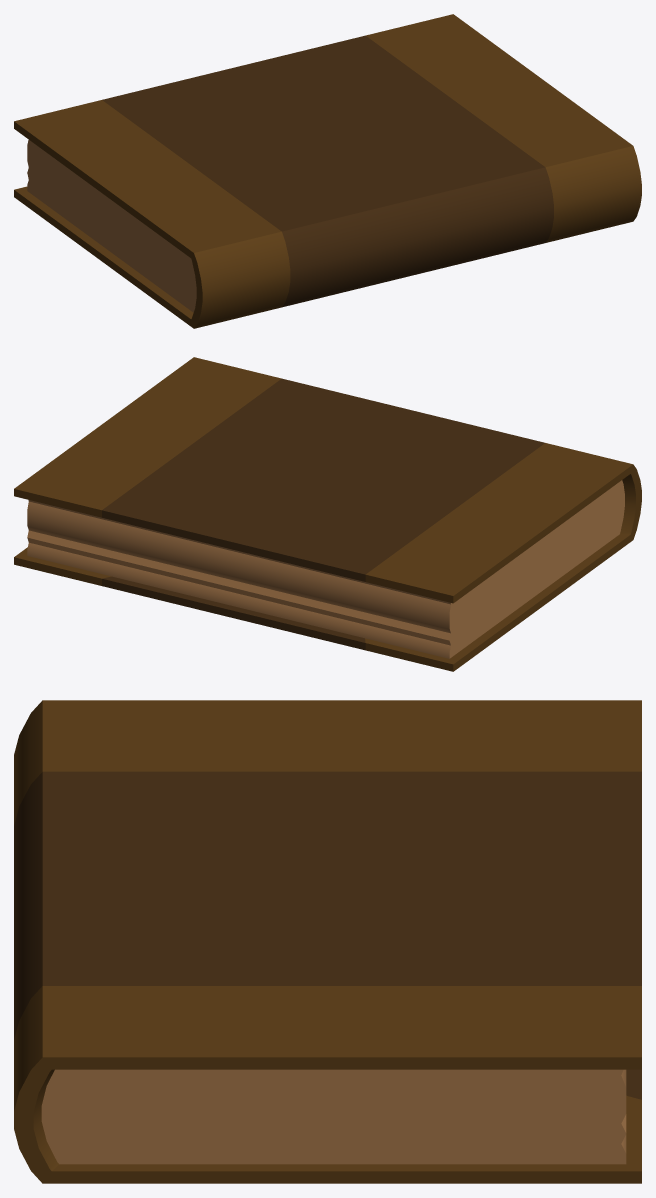
The model's file is Book.fbx.
3 views of the same model, one above another, from view 1: azimuth 30°, elevation 25°; view 2: azimuth 150°, elevation 25°; view 3: azimuth 270°, elevation 25° (orthographic). The views are drawn at different scales.
Visible parts, largest first — view 1: Cube.008; view 2: Cube.008; view 3: Cube.008.
Boxes of the visible parts, x1,y1,x2,y2 form: Cube.008: [14, 14, 641, 328]; Cube.008: [14, 357, 641, 671]; Cube.008: [14, 700, 641, 1183].
Bounding box in the file's own units: 90.67 × 14.95 × 67.39.
